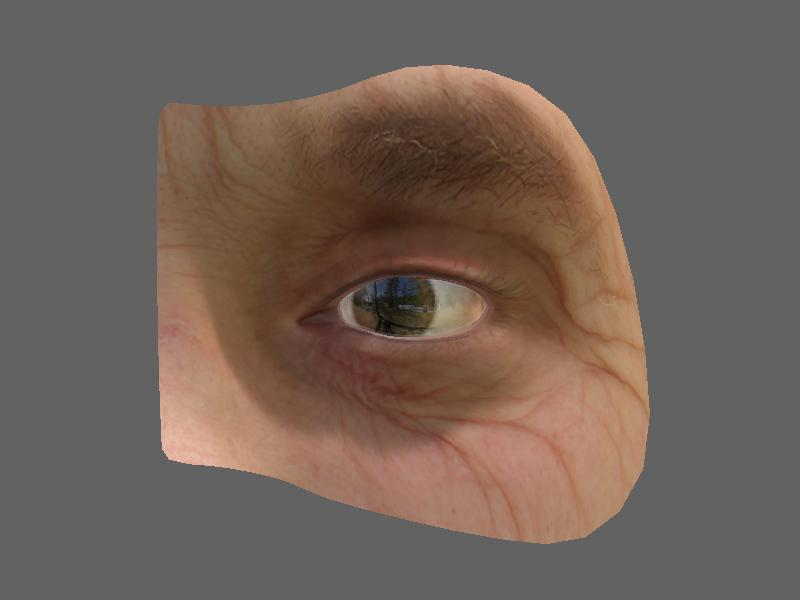iris: (348, 278, 438, 335)
